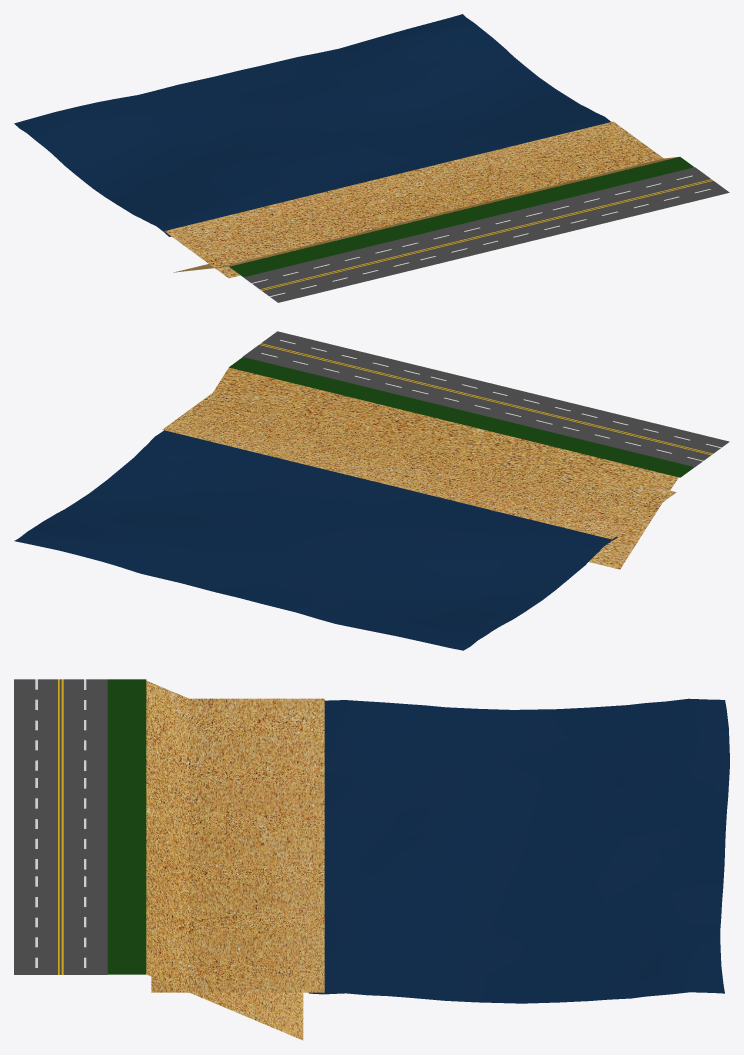
Rendered from MAP.glb.
3 views of the same model, one above another, from view 1: azimuth 30°, elevation 25°; view 2: azimuth 150°, elevation 25°; view 3: azimuth 270°, elevation 25° (orthographic). The views are drawn at different scales.
Parts seen in each view (by area): view 1: Ocean, Sand, Grass, Road.002, Road, Road.001, Sand.001; view 2: Ocean, Sand, Sand.001, Grass, Road.001, Road, Road.002; view 3: Ocean, Sand, Sand.001, Grass, Road, Road.001, Road.002.
Boxes of the visible parts, x1,y1,x2,y2 form: Ocean: (14,14,610,236); Sand: (164,121,663,278); Grass: (229,157,693,277); Road.002: (243,240,428,302); Road: (545,167,729,229); Road.001: (394,204,578,265); Sand.001: (173,157,677,272); Ocean: (14,430,618,650); Sand: (162,393,676,539); Sand.001: (213,367,678,569); Grass: (229,357,694,477); Road.001: (394,368,578,430); Road: (243,331,427,393); Road.002: (544,405,729,466); Ocean: (309,698,729,1003); Sand: (151,698,324,992); Sand.001: (146,680,303,1040); Grass: (107,679,146,974); Road: (14,876,107,974); Road.001: (14,778,107,876); Road.002: (14,679,107,777).
Bounding box in the file's own units: 154 × 16.02 × 157.
6 materials, 1 textured.
